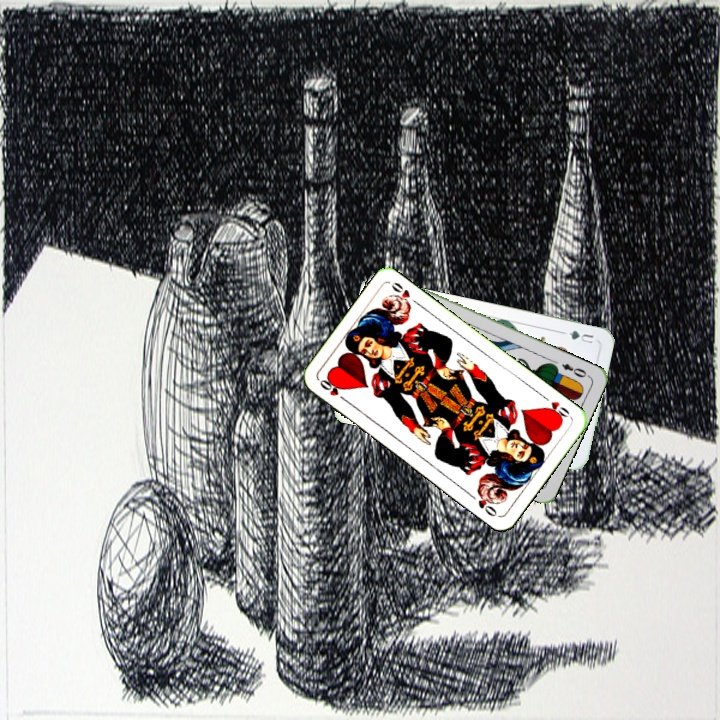EO: (558, 359, 589, 380)
GU: (565, 326, 596, 347)
HO: (538, 391, 574, 423), (316, 375, 350, 405)
